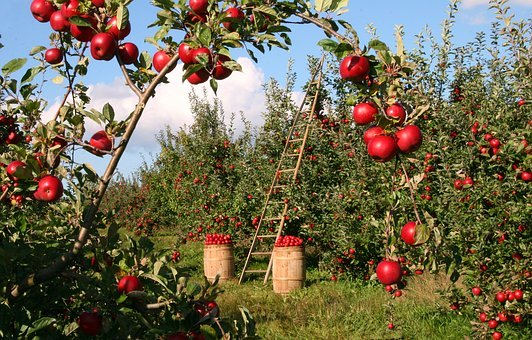apple: (361, 127, 408, 166), (85, 28, 125, 65), (33, 168, 69, 207), (88, 121, 124, 160), (51, 5, 87, 44), (180, 40, 216, 79), (338, 47, 374, 86), (372, 252, 408, 291)
forest: (179, 99, 528, 340)
tree: (33, 6, 253, 332)
